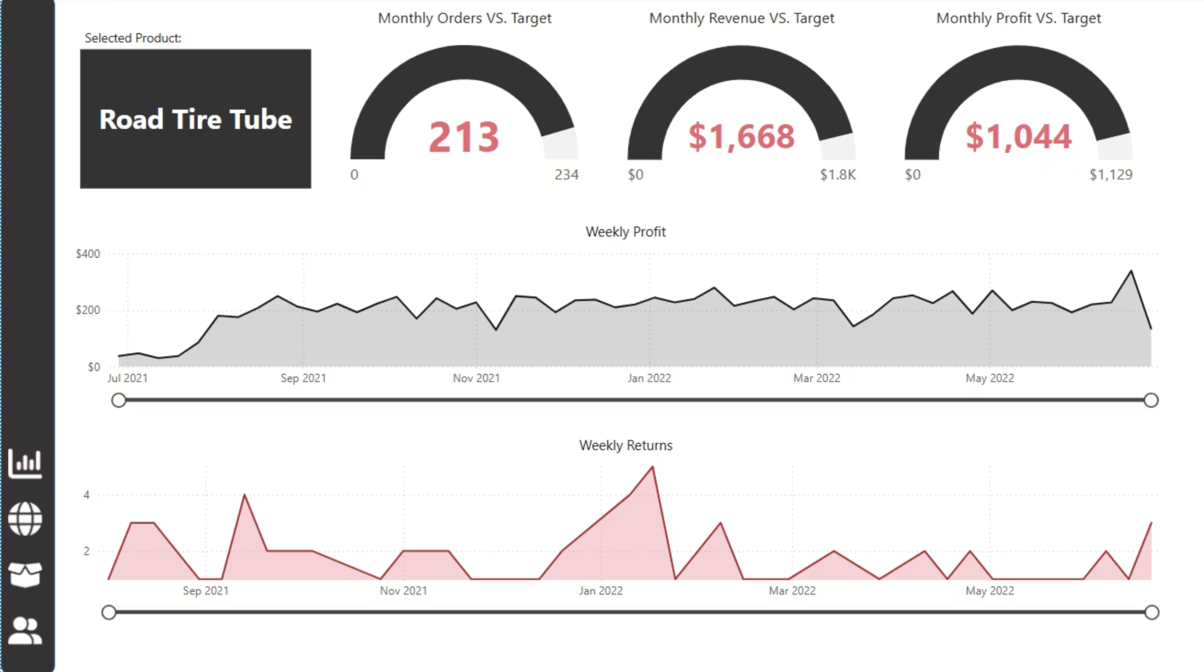

Layout of this report page (visuals, bound fields, positions):
{"tool":"powerbi","page":{"name":"Product Details","canvas":[1280,720],"ordinal":2},"visuals":[{"type":"shape","title":"Left KPI","box":[0,0,57.5,720.2],"z":0},{"type":"gauge","title":"Monthly Orders VS. Target","fields":{"Y":["Measure Table.Total Orders"],"MaxValue":["Measure Table.Order Target"]},"box":[366.9,11.4,253.2,213.3],"z":1000},{"type":"actionButton","box":[4,474.7,50.4,44.3],"z":1000,"group":"g1"},{"type":"gauge","title":"Monthly Revenue VS. Target","fields":{"Y":["Measure Table.Total Revenue"],"MaxValue":["Measure Table.Revenue Target"]},"box":[661.6,11,253.1,214],"z":2000},{"type":"actionButton","box":[4,533.8,50.4,44.3],"z":2000,"group":"g1"},{"type":"gauge","title":"Monthly Profit VS. Target","fields":{"Y":["Measure Table.Total Profit"],"MaxValue":["Measure Table.Profit Target"]},"box":[956.3,11,253.1,214],"z":3000},{"type":"actionButton","box":[4,593,50.4,44.3],"z":3000,"group":"g1"},{"type":"areaChart","title":"Weekly Profit","fields":{"Category":["Calendar Lookup.Start of Week"],"Y":["Measure Table.Total Profit"]},"box":[74.3,240,1180,200],"z":4000},{"type":"actionButton","box":[4,652.1,50.4,44.3],"z":4000,"group":"g1"},{"type":"areaChart","title":"Weekly Returns","fields":{"Category":["Calendar Lookup.Start of Week"],"Y":["Measure Table.Total Returns"]},"box":[74.3,465.7,1180.3,199.7],"z":5000},{"type":"card","fields":{"Values":["Min(Product Lookup.ProductName)"]},"box":[84.2,56.4,245.4,147.8],"z":6000},{"type":"textbox","box":[84.2,29.6,132.5,37.6],"z":7000},{"type":"group","id":"g1","title":"Navigator Buttons","box":[4,474.7,50.4,221.7],"z":8000}]}

Visuals, with their boxes on the page's 1280x720 design canvas (x1, y1, x2, y2). These are canvas units, not pixel positions in the 1204x672 screenshot, which may show the page scaled, cropped or inside an application window:
"Left KPI" shape: rect(0, 0, 58, 720)
"Monthly Orders VS. Target" gauge: rect(367, 11, 620, 225)
actionButton: rect(4, 475, 54, 519)
"Monthly Revenue VS. Target" gauge: rect(662, 11, 915, 225)
actionButton: rect(4, 534, 54, 578)
"Monthly Profit VS. Target" gauge: rect(956, 11, 1209, 225)
actionButton: rect(4, 593, 54, 637)
"Weekly Profit" areaChart: rect(74, 240, 1254, 440)
actionButton: rect(4, 652, 54, 696)
"Weekly Returns" areaChart: rect(74, 466, 1255, 665)
card - Min(Product Lookup.ProductName): rect(84, 56, 330, 204)
textbox: rect(84, 30, 217, 67)
"Navigator Buttons" group: rect(4, 475, 54, 696)
